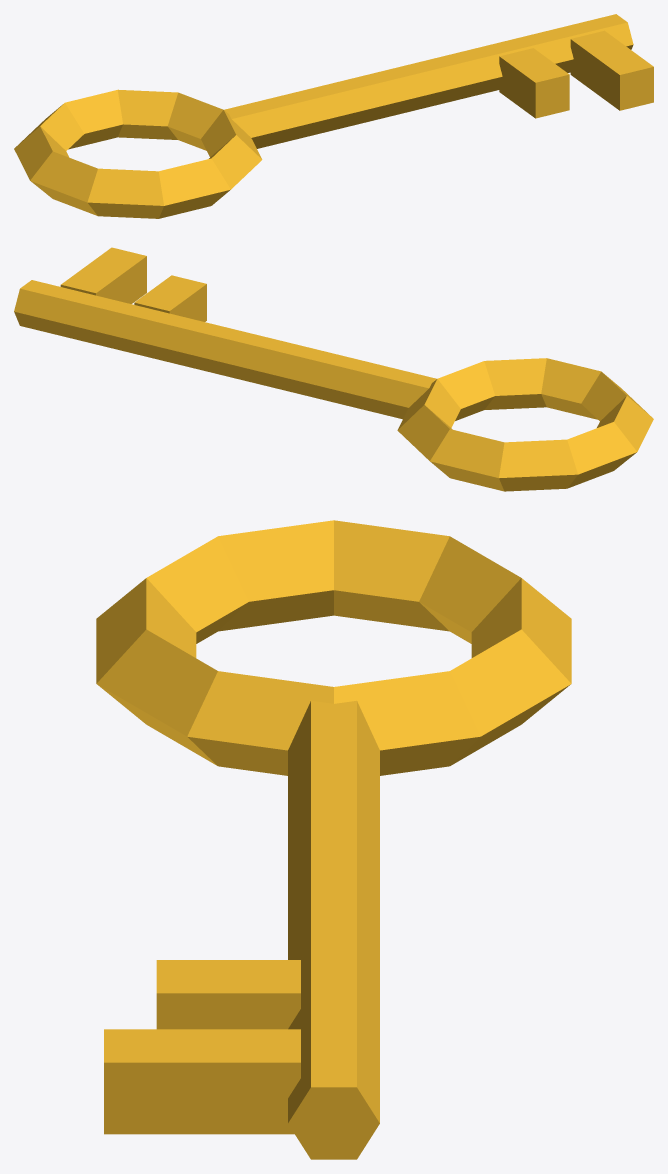
File: key.fbx
3 renders of one model, top to bottom at view 1: azimuth 30°, elevation 25°; view 2: azimuth 150°, elevation 25°; view 3: azimuth 270°, elevation 25°, orthographic. The views are drawn at different scales.
Visible parts, largest first — view 1: key; view 2: key; view 3: key.
Boxes of the visible parts, x1,y1,x2,y2 form: key: [14, 14, 653, 218]; key: [14, 247, 653, 491]; key: [96, 520, 571, 1159].
Bounding box in the file's own units: 0.208 × 0.016 × 0.0723.
